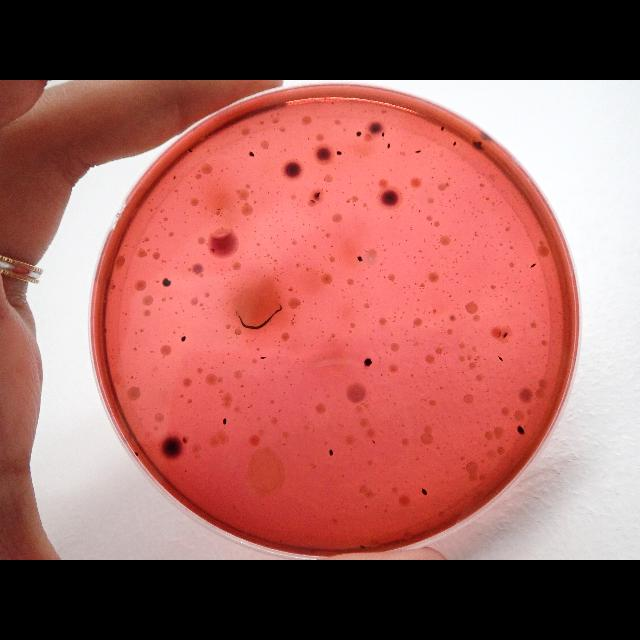colony: (160, 432, 183, 460), (281, 157, 303, 181), (378, 187, 400, 209), (316, 145, 330, 163), (367, 120, 381, 136), (362, 354, 373, 370), (516, 423, 526, 437), (312, 188, 322, 200), (161, 276, 171, 288), (186, 144, 194, 158), (246, 150, 256, 160), (336, 146, 344, 158), (439, 122, 447, 134), (353, 129, 362, 139), (419, 487, 428, 497), (528, 262, 538, 270), (497, 354, 505, 364), (179, 334, 187, 344), (328, 447, 334, 459), (222, 415, 228, 427), (379, 130, 386, 140), (502, 331, 508, 342), (356, 253, 362, 263), (386, 142, 392, 150), (414, 148, 422, 154), (452, 140, 458, 148), (134, 450, 140, 458), (258, 356, 268, 360)
